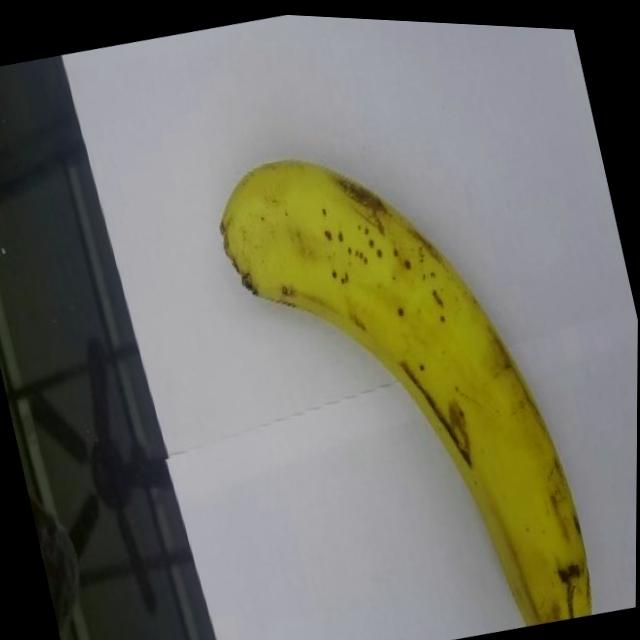Banana: (200, 102, 609, 640)
